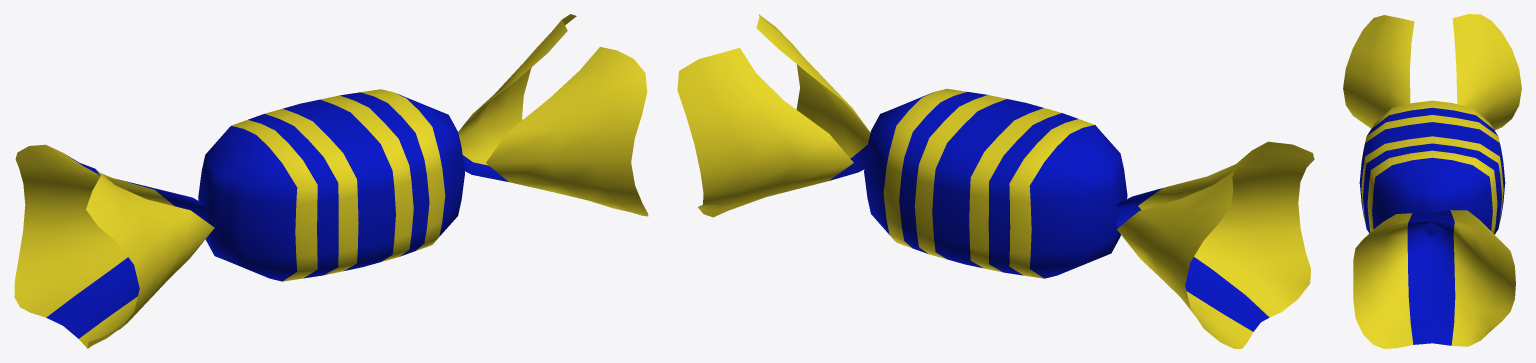
The model's file is candy_Cor2_v3.fbx.
3 renders of one model, left to right at view 1: azimuth 30°, elevation 25°; view 2: azimuth 150°, elevation 25°; view 3: azimuth 270°, elevation 25°, orthographic. The views are drawn at different scales.
Parts seen in each view (by area): view 1: candy; view 2: candy; view 3: candy.
Part boxes in pixels (x1,y1,x2,y2): candy: (14, 14, 648, 348); candy: (677, 14, 1314, 348); candy: (1343, 14, 1521, 348).
Size of the model in its own units: 29.47 by 8.43 by 10.32.
